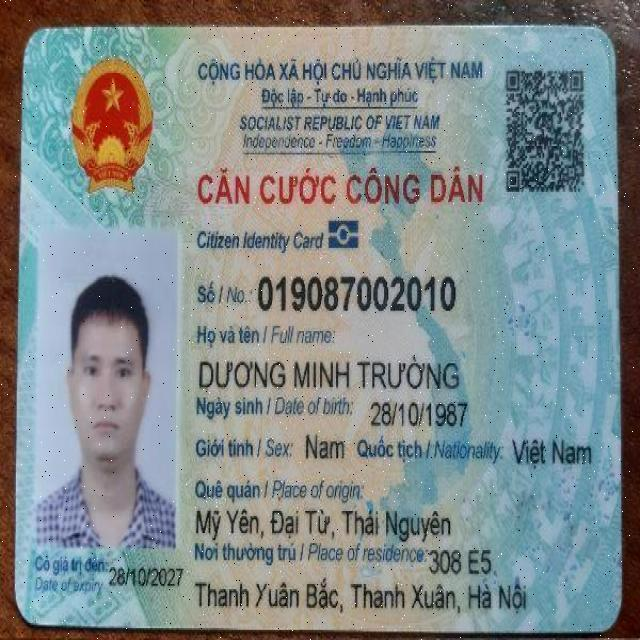current_place: (196, 578, 548, 622), (420, 543, 535, 579)
dob: (367, 392, 468, 431)
expire_date: (106, 562, 187, 592)
gender: (296, 424, 347, 464)
id: (256, 269, 460, 318)
name: (197, 356, 460, 395)
nationality: (514, 432, 599, 474)
origin_place: (197, 499, 462, 542)
qr: (501, 64, 591, 196)
